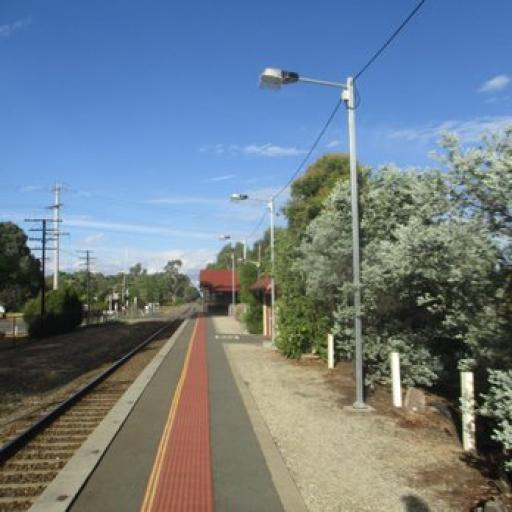platform_edge: (26, 308, 216, 511)
